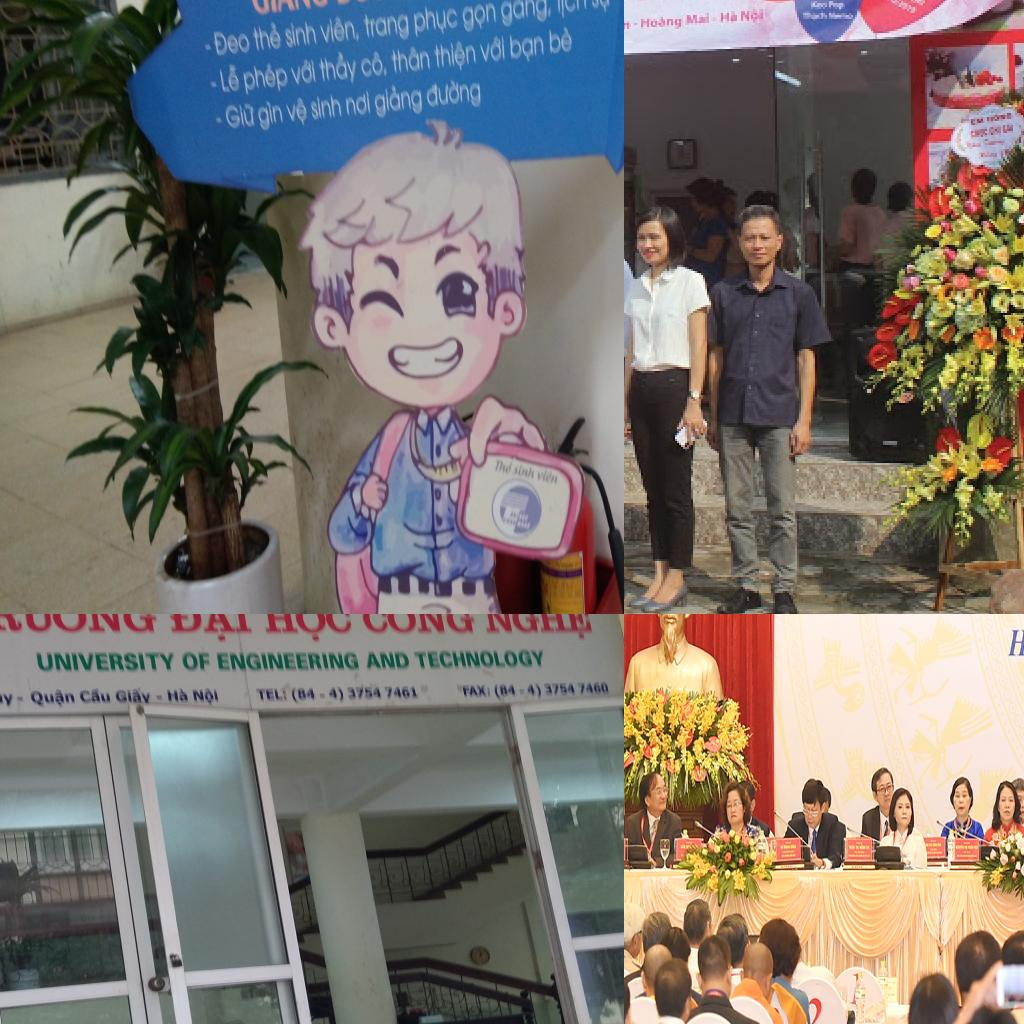text: (34, 648, 176, 676), (0, 614, 159, 638), (212, 648, 363, 672), (479, 614, 597, 642), (414, 646, 548, 670), (361, 614, 478, 639), (261, 614, 353, 645), (167, 614, 257, 645), (372, 82, 424, 122), (242, 58, 290, 98), (414, 2, 460, 40), (432, 38, 478, 74), (362, 9, 411, 42), (317, 49, 358, 87), (318, 13, 362, 48), (499, 0, 552, 29), (246, 0, 329, 17), (211, 26, 253, 58), (461, 0, 498, 36), (637, 11, 687, 37), (390, 44, 432, 74), (509, 32, 547, 65), (166, 685, 226, 705), (284, 17, 318, 51), (365, 648, 412, 672), (546, 679, 612, 696), (252, 20, 284, 54), (256, 98, 286, 134), (347, 684, 419, 699), (310, 93, 344, 124), (360, 48, 390, 82), (28, 688, 78, 708), (224, 100, 256, 131), (478, 34, 507, 66), (284, 96, 312, 129), (218, 61, 242, 96), (290, 58, 318, 88), (548, 24, 574, 56), (345, 89, 373, 118), (1006, 620, 1024, 662), (685, 7, 717, 29), (255, 685, 292, 704), (111, 687, 152, 704), (741, 5, 769, 29), (183, 650, 212, 673), (554, 0, 589, 19), (78, 688, 113, 706), (806, 992, 825, 1024), (536, 465, 561, 488), (460, 683, 492, 700), (492, 454, 516, 476), (511, 460, 535, 482), (491, 682, 520, 699), (293, 686, 319, 704), (717, 7, 741, 25), (326, 685, 346, 702), (524, 682, 542, 700), (591, 0, 612, 14), (0, 688, 14, 706), (624, 17, 635, 37), (212, 112, 225, 125), (202, 42, 213, 52), (209, 78, 218, 89)
